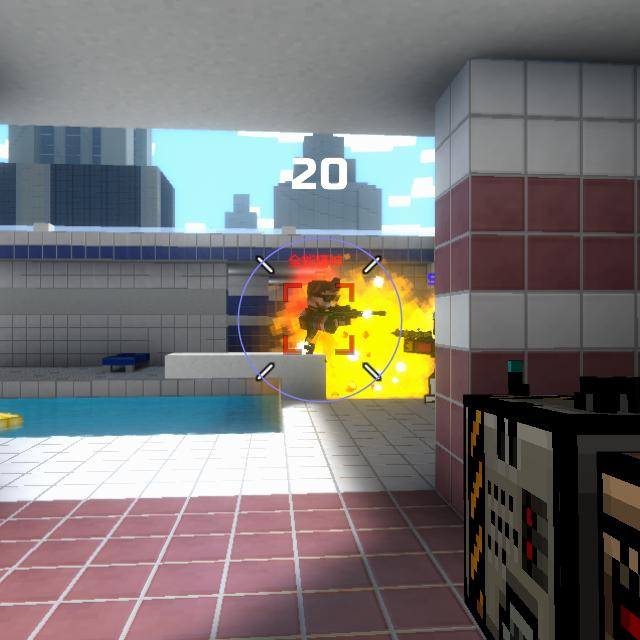Enemy: (298, 278, 351, 354)
